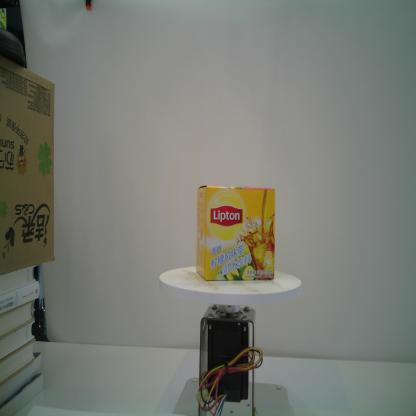Instant Drink: (194, 183, 277, 284)
